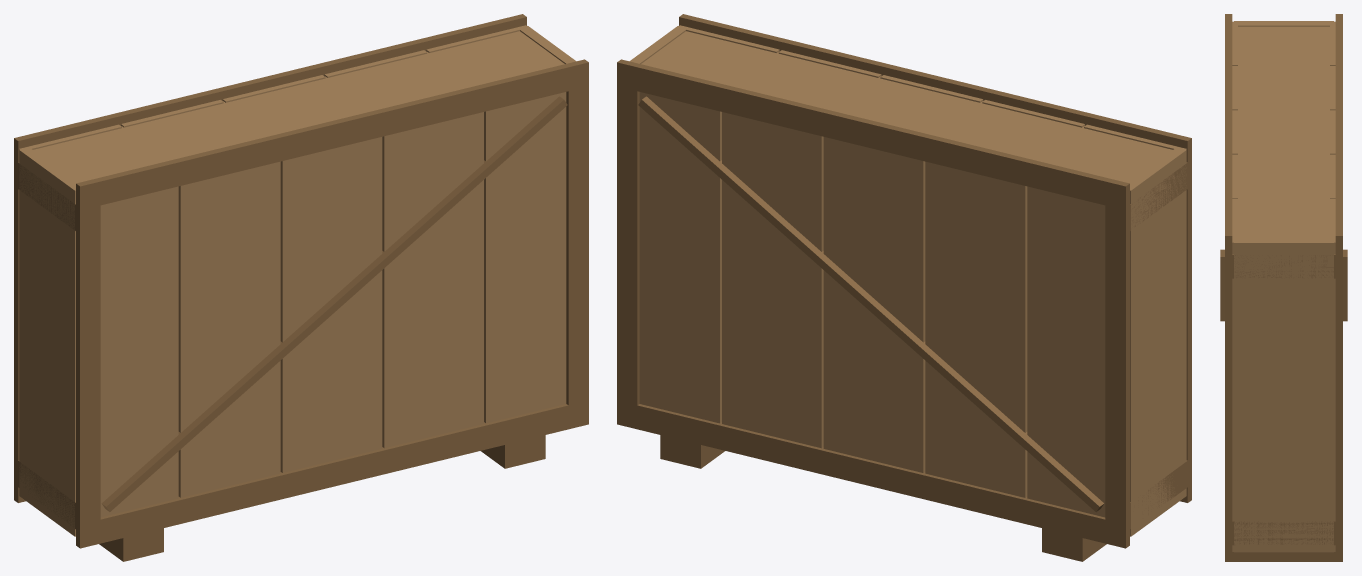
The model's file is crate_painting.glb.
3 renders of one model, left to right at view 1: azimuth 30°, elevation 25°; view 2: azimuth 150°, elevation 25°; view 3: azimuth 270°, elevation 25°, orthographic. The views are drawn at different scales.
Visible parts, largest first — view 1: Tabla.001, Tabla.002, Tabla.003, Tabla.004, Tabla, Cierre.001, Costado, Batiente.003, Batiente.002, Batiente, Batiente.001, Diagonal (+6 smaller); view 2: Tabla.006, Tabla.007, Tabla.008, Tabla.009, Tabla.005, Cierre.001, Costado, Batiente.007, Batiente.006, Batiente.004, Batiente.005, Diagonal.001 (+6 smaller); view 3: Costado.001, Cierre.001, Batiente.001, Batiente.005, Batiente.007, Batiente.003, Refuerzo esquina.002, Patín.001, Tabla.004, Tabla.009, Costado, Refuerzo esquina.003 (+10 smaller).
Boxes of the visible parts, bbox=[...] form: Tabla.001: bbox=[178, 161, 280, 497]; Tabla.002: bbox=[280, 137, 382, 472]; Tabla.003: bbox=[382, 112, 483, 448]; Tabla.004: bbox=[484, 92, 566, 423]; Tabla: bbox=[100, 186, 178, 517]; Cierre.001: bbox=[33, 31, 564, 182]; Costado: bbox=[19, 147, 77, 536]; Batiente.003: bbox=[76, 59, 588, 209]; Batiente.002: bbox=[76, 401, 588, 548]; Batiente: bbox=[76, 183, 100, 547]; Batiente.001: bbox=[566, 64, 588, 427]; Diagonal: bbox=[101, 96, 567, 511]; Tabla.006: bbox=[925, 161, 1027, 497]; Tabla.007: bbox=[823, 137, 925, 472]; Tabla.008: bbox=[722, 112, 823, 448]; Tabla.009: bbox=[639, 92, 721, 423]; Tabla.005: bbox=[1027, 186, 1105, 517]; Cierre.001: bbox=[641, 31, 1172, 182]; Costado: bbox=[1128, 147, 1186, 536]; Batiente.007: bbox=[617, 59, 1129, 209]; Batiente.006: bbox=[617, 402, 1129, 548]; Batiente.004: bbox=[1105, 183, 1129, 547]; Batiente.005: bbox=[617, 64, 639, 427]; Diagonal.001: bbox=[638, 96, 1104, 511]; Costado.001: bbox=[1234, 238, 1333, 552]; Cierre.001: bbox=[1238, 26, 1329, 238]; Batiente.001: bbox=[1225, 237, 1232, 558]; Batiente.005: bbox=[1335, 237, 1342, 558]; Batiente.007: bbox=[1335, 14, 1342, 257]; Batiente.003: bbox=[1225, 14, 1232, 256]; Refuerzo esquina.002: bbox=[1232, 521, 1335, 545]; Patín.001: bbox=[1225, 552, 1342, 561]; Tabla.004: bbox=[1232, 199, 1237, 551]; Tabla.009: bbox=[1330, 199, 1335, 551]; Costado: bbox=[1234, 21, 1333, 26]; Refuerzo esquina.003: bbox=[1231, 254, 1336, 278].
Bounding box in the file's own units: 2 × 1.45 × 0.484.
